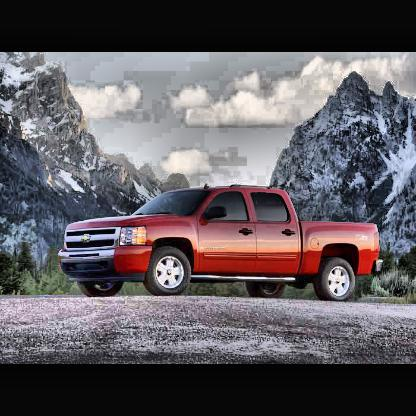Chevrolet Silverado 1500 Hybrid Crew Cab 2012: (58, 185, 385, 302)
